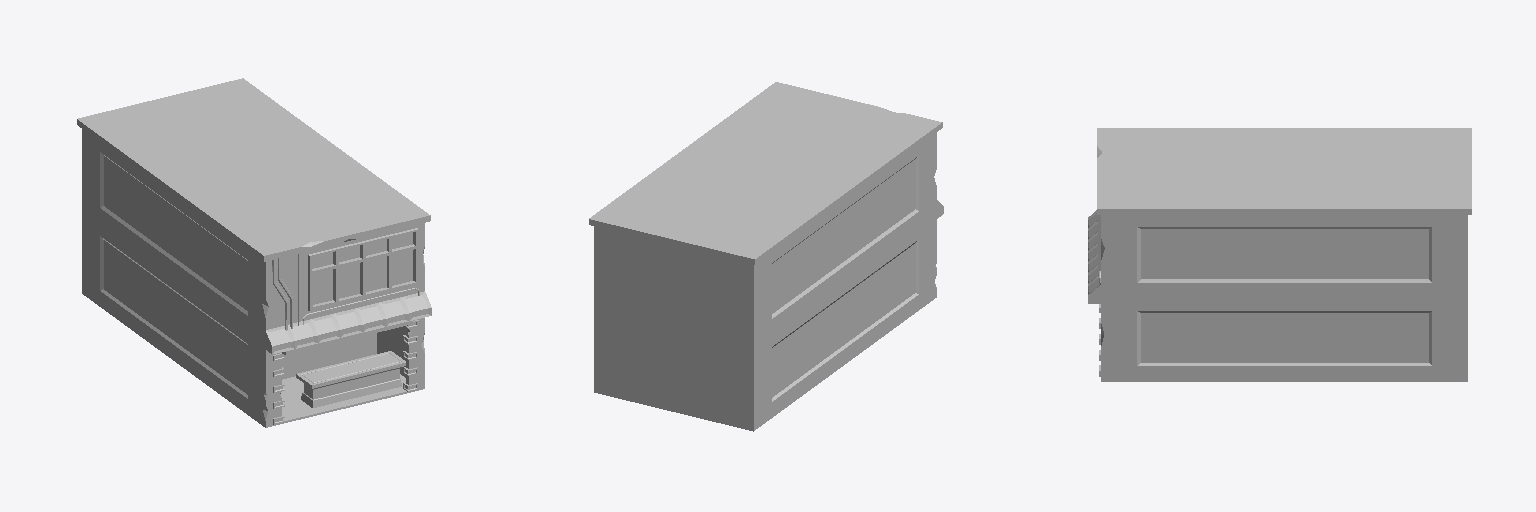
Rendered from SciFi_Shop1.obj.
3 views of the same model, side by side, from view 1: azimuth 30°, elevation 25°; view 2: azimuth 150°, elevation 25°; view 3: azimuth 270°, elevation 25° (orthographic).
Visible parts, largest first — view 1: SM_Bld_Chopshop_01; view 2: SM_Bld_Chopshop_01; view 3: SM_Bld_Chopshop_01.
Boxes of the visible parts, x1=… form: SM_Bld_Chopshop_01: x1=77, y1=78, x2=431, y2=427; SM_Bld_Chopshop_01: x1=589, y1=82, x2=943, y2=431; SM_Bld_Chopshop_01: x1=1088, y1=128, x2=1471, y2=381.
Bounding box in the file's own units: 1 × 1 × 2.